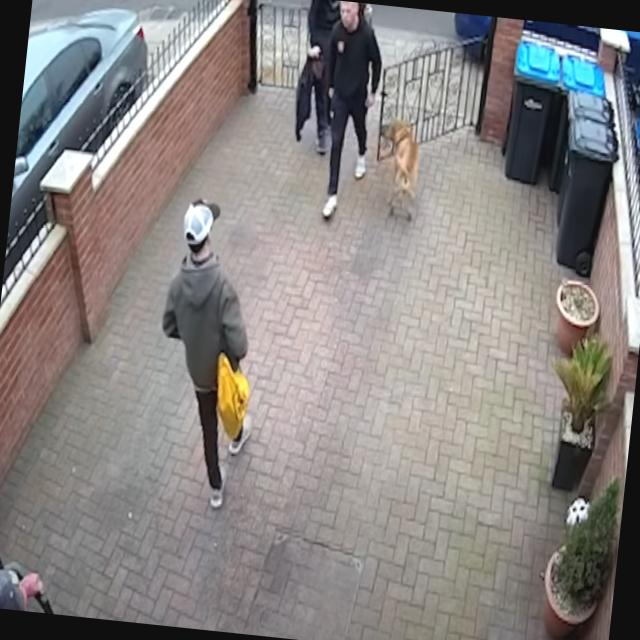person: (144, 195, 274, 510), (305, 0, 387, 221), (288, 0, 347, 154)
